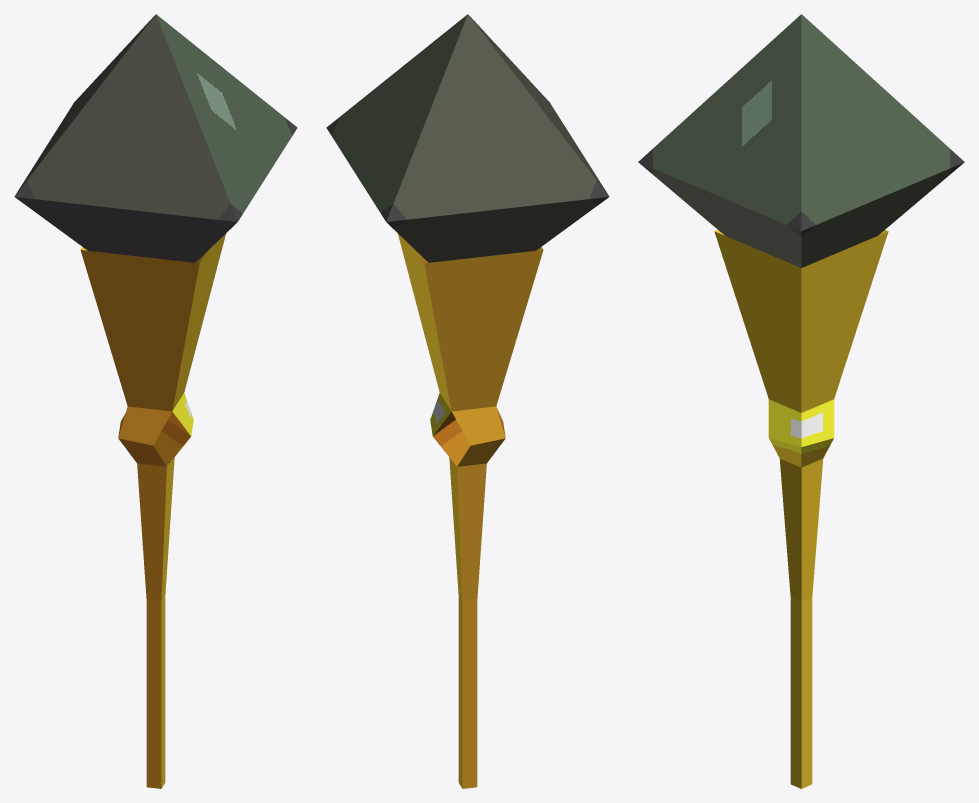
The model's file is checkpoint_model.glb.
3 renders of one model, left to right at view 1: azimuth 30°, elevation 25°; view 2: azimuth 150°, elevation 25°; view 3: azimuth 270°, elevation 25°, orthographic.
Visible parts, largest first — view 1: Gem, Piller.001; view 2: Gem, Piller.001; view 3: Gem, Piller.001.
Part boxes in pixels (<box>): Gem: <box>14,14,297,262</box>; Piller.001: <box>80,234,225,788</box>; Gem: <box>326,14,609,262</box>; Piller.001: <box>398,234,543,788</box>; Gem: <box>638,14,964,267</box>; Piller.001: <box>714,230,888,788</box>.
Bounding box in the file's own units: 1.89 × 4.91 × 1.89.
2 materials, 2 textured.
